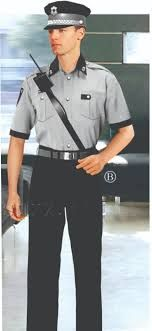uniform: (20, 67, 114, 310)
